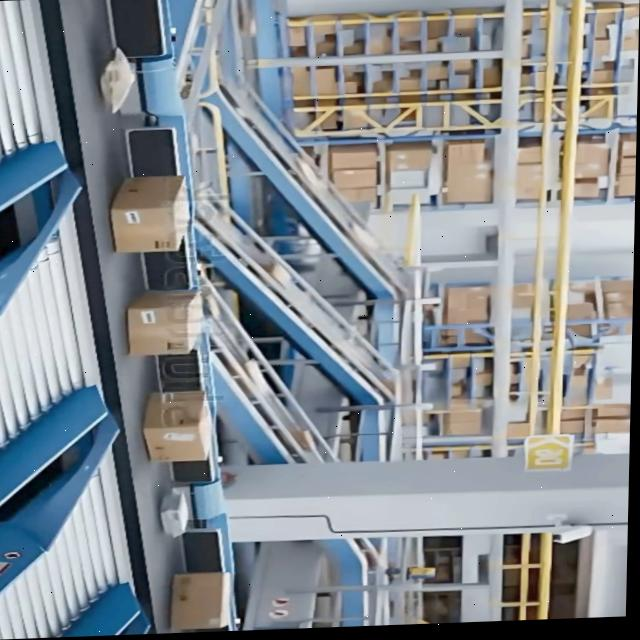product 1: (109, 174, 192, 253), (126, 287, 205, 356), (142, 388, 213, 463)
product 2: (159, 491, 190, 538)
